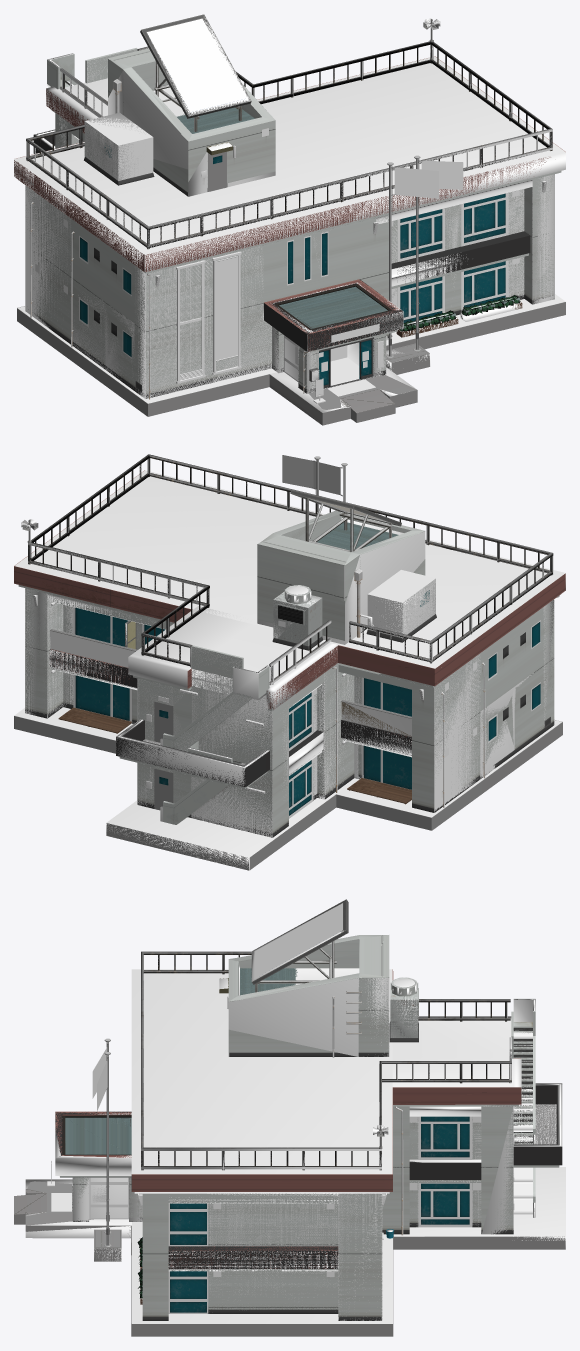
File: objects_un_dlc1_t10hall01.gltf
3 renders of one model, top to bottom at view 1: azimuth 30°, elevation 25°; view 2: azimuth 150°, elevation 25°; view 3: azimuth 270°, elevation 25°, orthographic.
Visible parts, largest first — view 1: um_objects_un_dlc1_t10hall01_model_lod0Shape:shadow_mat, um_objects_un_dlc1_t10hall01_model_lod0Shape:objects_un_dlc1 (×6), um_objects_un_dlc1_t10hall01_model_lod1Shape:objects_un_dlc1 (×4), um_objects_un_dlc1_t10hall01_model_lod2Shape:dlc1_t10hall01_, um_objects_un_dlc1_t10hall01_model_lod0Shape:dlc1_t10hall01_ (×3), um_objects_un_dlc1_t10hall01_model_lod1Shape:dlc1_t10hall01_ (×2), nomerge_prop_shape:dlc1_t10hall01_obj03_01, um_objects_un_dlc1_t10hall01_model_lod2Shape:objects_un_dlc1 (×2), um_objects_un_dlc1_t10hall01_model_lod0Shape:plants_un_dlc1_, nomerge_behind_shape:objects_un_behind01; view 2: um_objects_un_dlc1_t10hall01_model_lod0Shape:shadow_mat, um_objects_un_dlc1_t10hall01_model_lod0Shape:objects_un_dlc1 (×5), um_objects_un_dlc1_t10hall01_model_lod1Shape:objects_un_dlc1 (×3), nomerge_prop_shape:dlc1_t10hall01_obj03_01, um_objects_un_dlc1_t10hall01_model_lod2Shape:dlc1_t10hall01_, um_objects_un_dlc1_t10hall01_model_lod1Shape:dlc1_t10hall01_ (×2), um_objects_un_dlc1_t10hall01_model_lod0Shape:dlc1_t10hall01_, um_objects_un_dlc1_t10hall01_model_lod2Shape:objects_un_dlc1; view 3: um_objects_un_dlc1_t10hall01_model_lod0Shape:shadow_mat, um_objects_un_dlc1_t10hall01_model_lod0Shape:objects_un_dlc1 (×5), um_objects_un_dlc1_t10hall01_model_lod1Shape:objects_un_dlc1 (×4), um_objects_un_dlc1_t10hall01_model_lod2Shape:dlc1_t10hall01_, um_objects_un_dlc1_t10hall01_model_lod1Shape:dlc1_t10hall01_, um_objects_un_dlc1_t10hall01_model_lod0Shape:dlc1_t10hall01_.
Part boxes in pixels (left/top/right/bottom): um_objects_un_dlc1_t10hall01_model_lod0Shape:shadow_mat: left=14, top=16, right=565, bottom=412; um_objects_un_dlc1_t10hall01_model_lod0Shape:objects_un_dlc1 (×6): left=14, top=14, right=565, bottom=422; um_objects_un_dlc1_t10hall01_model_lod1Shape:objects_un_dlc1 (×4): left=17, top=18, right=554, bottom=425; um_objects_un_dlc1_t10hall01_model_lod2Shape:dlc1_t10hall01_: left=26, top=18, right=552, bottom=358; um_objects_un_dlc1_t10hall01_model_lod0Shape:dlc1_t10hall01_ (×3): left=35, top=128, right=519, bottom=403; um_objects_un_dlc1_t10hall01_model_lod1Shape:dlc1_t10hall01_ (×2): left=284, top=161, right=508, bottom=396; nomerge_prop_shape:dlc1_t10hall01_obj03_01: left=84, top=118, right=546, bottom=286; um_objects_un_dlc1_t10hall01_model_lod2Shape:objects_un_dlc1 (×2): left=84, top=107, right=519, bottom=329; um_objects_un_dlc1_t10hall01_model_lod0Shape:plants_un_dlc1_: left=399, top=295, right=520, bottom=331; nomerge_behind_shape:objects_un_behind01: left=330, top=345, right=359, bottom=385; um_objects_un_dlc1_t10hall01_model_lod0Shape:shadow_mat: left=14, top=458, right=565, bottom=870; um_objects_un_dlc1_t10hall01_model_lod0Shape:objects_un_dlc1 (×5): left=14, top=454, right=565, bottom=870; um_objects_un_dlc1_t10hall01_model_lod1Shape:objects_un_dlc1 (×3): left=21, top=510, right=562, bottom=870; nomerge_prop_shape:dlc1_t10hall01_obj03_01: left=33, top=570, right=435, bottom=793; um_objects_un_dlc1_t10hall01_model_lod2Shape:dlc1_t10hall01_: left=28, top=456, right=540, bottom=818; um_objects_un_dlc1_t10hall01_model_lod1Shape:dlc1_t10hall01_ (×2): left=50, top=455, right=411, bottom=815; um_objects_un_dlc1_t10hall01_model_lod0Shape:dlc1_t10hall01_: left=282, top=455, right=340, bottom=494; um_objects_un_dlc1_t10hall01_model_lod2Shape:objects_un_dlc1: left=278, top=580, right=434, bottom=645; um_objects_un_dlc1_t10hall01_model_lod0Shape:shadow_mat: left=25, top=909, right=565, bottom=1323; um_objects_un_dlc1_t10hall01_model_lod0Shape:objects_un_dlc1 (×5): left=14, top=899, right=565, bottom=1336; um_objects_un_dlc1_t10hall01_model_lod1Shape:objects_un_dlc1 (×4): left=16, top=935, right=557, bottom=1336; um_objects_un_dlc1_t10hall01_model_lod2Shape:dlc1_t10hall01_: left=89, top=903, right=511, bottom=1244; um_objects_un_dlc1_t10hall01_model_lod1Shape:dlc1_t10hall01_: left=51, top=1185, right=469, bottom=1313; um_objects_un_dlc1_t10hall01_model_lod0Shape:dlc1_t10hall01_: left=92, top=1047, right=107, bottom=1110.
Size of what is drawn, in the model's own units: 24.13 by 15.55 by 27.45.
Materials: 16 (10 with a texture image).
